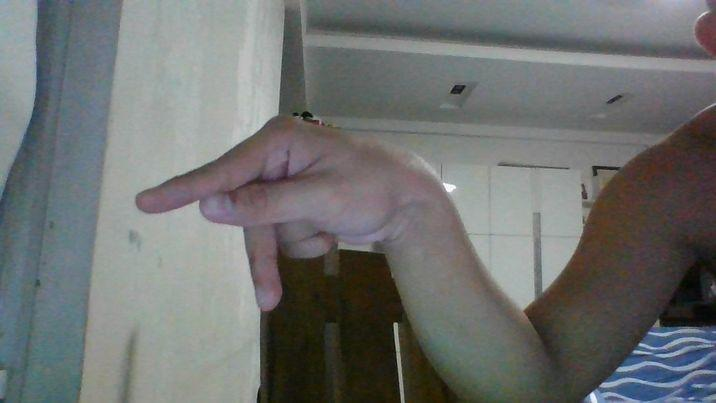p: (137, 114, 437, 311)
